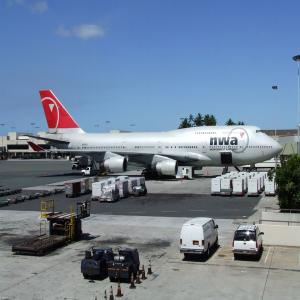Vehicle-registration-plate: (194, 243, 199, 245)
